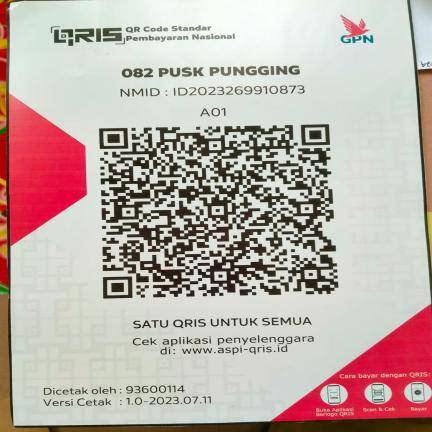Qris-Positioning: (2, 0, 432, 427)
